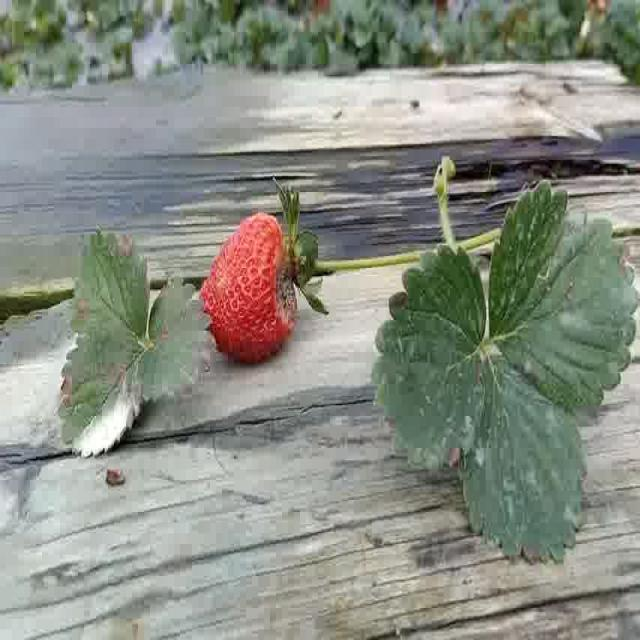Mancha negra Antracnosis: (192, 210, 306, 360)
